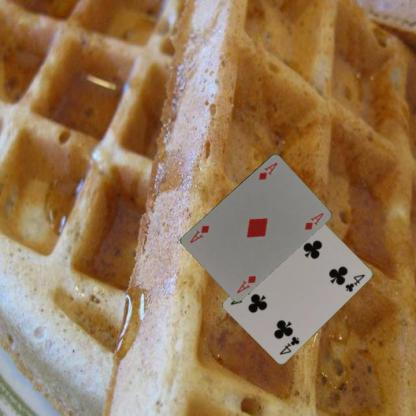4c: (277, 333, 301, 356)
Ad: (234, 272, 258, 294), (256, 159, 279, 181)
